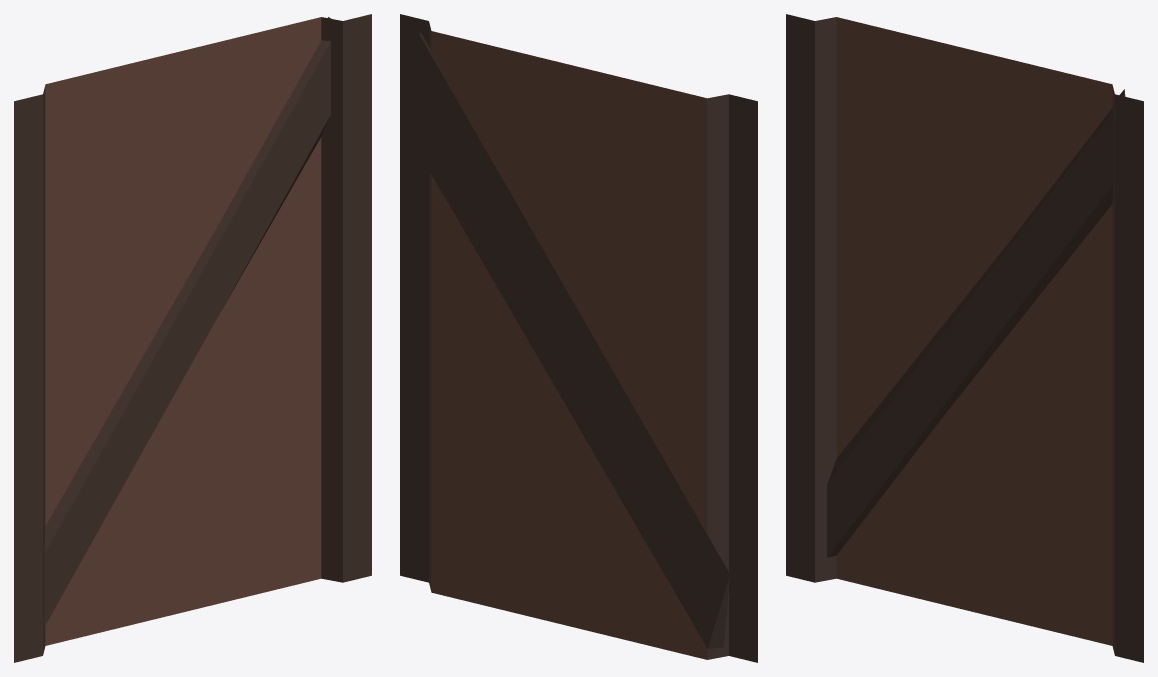
Rendered from LPHorror_2MWallB.fbx.
3 views of the same model, side by side, from view 1: azimuth 30°, elevation 25°; view 2: azimuth 150°, elevation 25°; view 3: azimuth 330°, elevation 25° (orthographic).
Visible parts, largest first — view 1: 2MWallB; view 2: 2MWallB; view 3: 2MWallB.
Boxes of the visible parts, <box> form: 2MWallB: <box>14,14,371,662</box>; 2MWallB: <box>400,14,757,662</box>; 2MWallB: <box>786,14,1143,662</box>.
Size of the model in its own units: 200 by 300 by 12.97.
